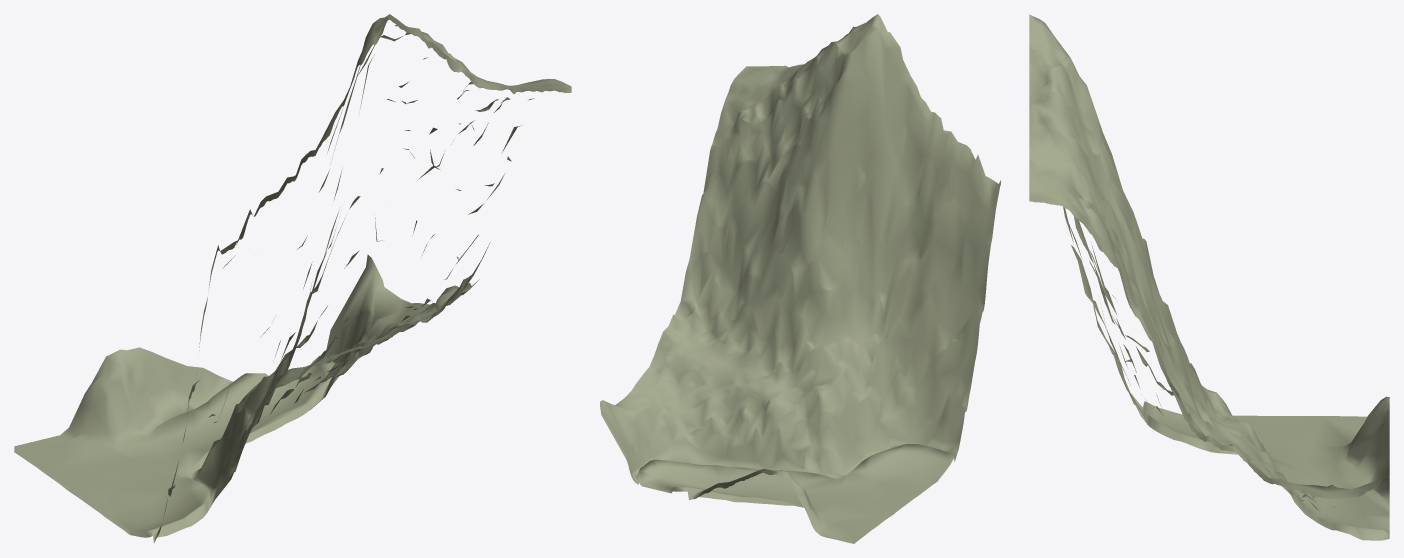
File: terrain_r0_c2_lod1.glb
3 views of the same model, side by side, from view 1: azimuth 30°, elevation 25°; view 2: azimuth 150°, elevation 25°; view 3: azimuth 270°, elevation 25° (orthographic). The views are drawn at different scales.
Parts seen in each view (by area): view 1: terrain_r0_c2_lod1; view 2: terrain_r0_c2_lod1; view 3: terrain_r0_c2_lod1.
Boxes of the visible parts, <box> form: terrain_r0_c2_lod1: <box>14,14,571,543</box>; terrain_r0_c2_lod1: <box>600,14,1000,543</box>; terrain_r0_c2_lod1: <box>1029,14,1389,540</box>.
Size of the model in its own units: 50 by 73.84 by 50.
